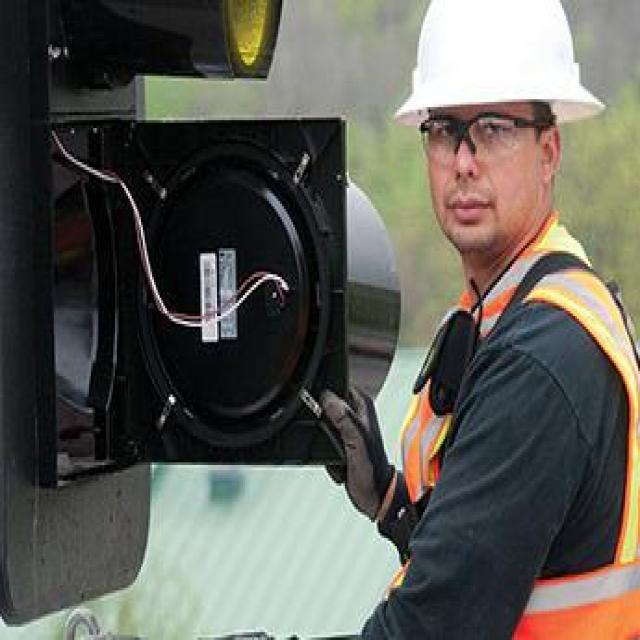Reflective-Jacket: (376, 229, 640, 637)
Safety-Helmet: (393, 5, 599, 141)
